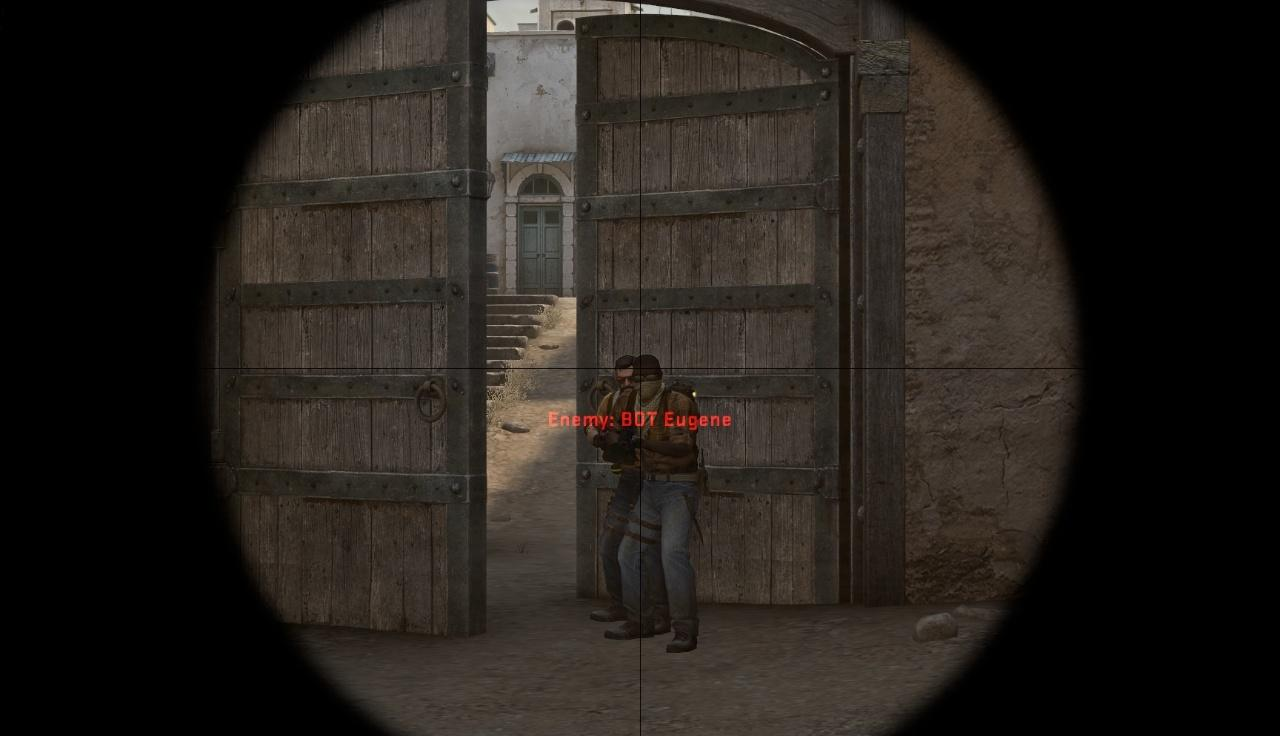tt: (608, 354, 702, 653)
tthead: (633, 356, 661, 398), (616, 357, 636, 394)
